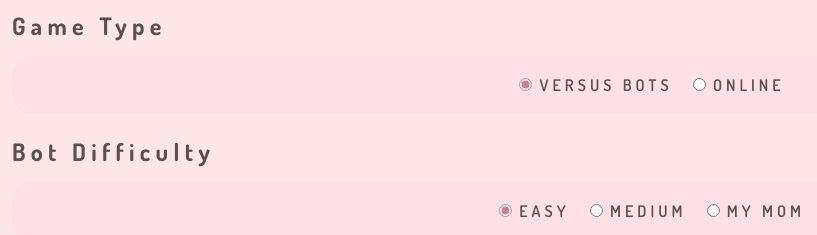
CreateGameSelections › shows backfill info when Online is selected
Click the radio button labelled "Online" at (699, 84), box [693,78,706,91]
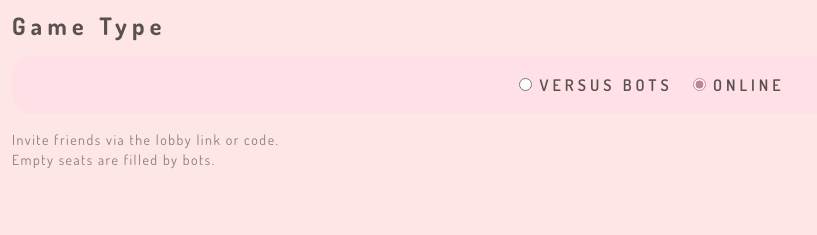
Check: the text "Empty seats are filled by bots" is shown, box [12,151,216,168]
